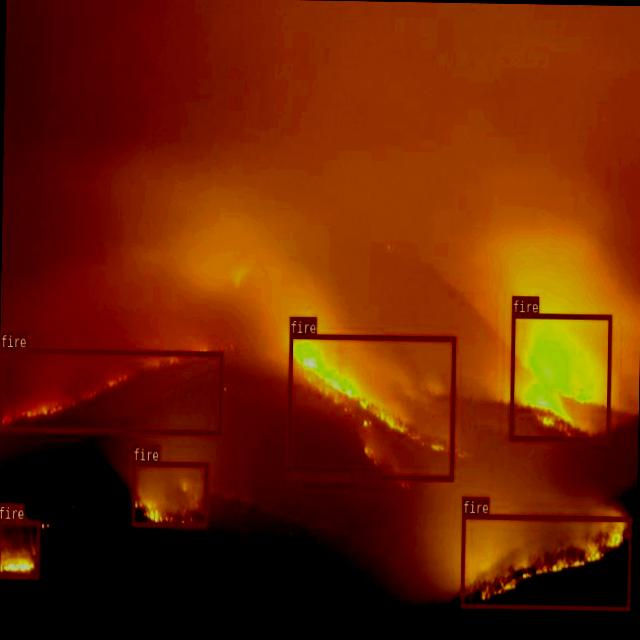fire: (286, 332, 455, 480), (0, 346, 221, 435), (460, 513, 631, 609), (509, 311, 610, 441), (130, 460, 208, 527), (0, 518, 39, 578)
